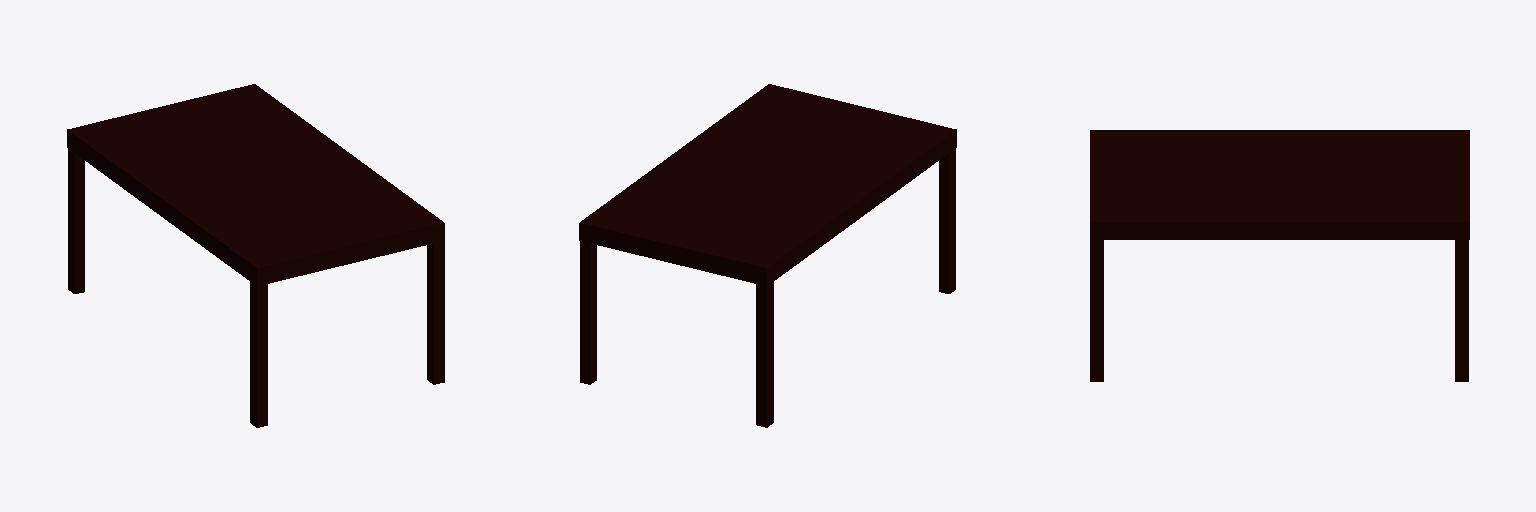
Rendered from table.obj.
3 renders of one model, left to right at view 1: azimuth 30°, elevation 25°; view 2: azimuth 150°, elevation 25°; view 3: azimuth 270°, elevation 25°, orthographic.
Parts seen in each view (by area): view 1: Cube; view 2: Cube; view 3: Cube.
Boxes of the visible parts, <box> form: Cube: <box>67,84,444,427</box>; Cube: <box>579,84,956,427</box>; Cube: <box>1090,130,1469,381</box>.
Bounding box in the file's own units: 2.27 × 1.85 × 3.98.